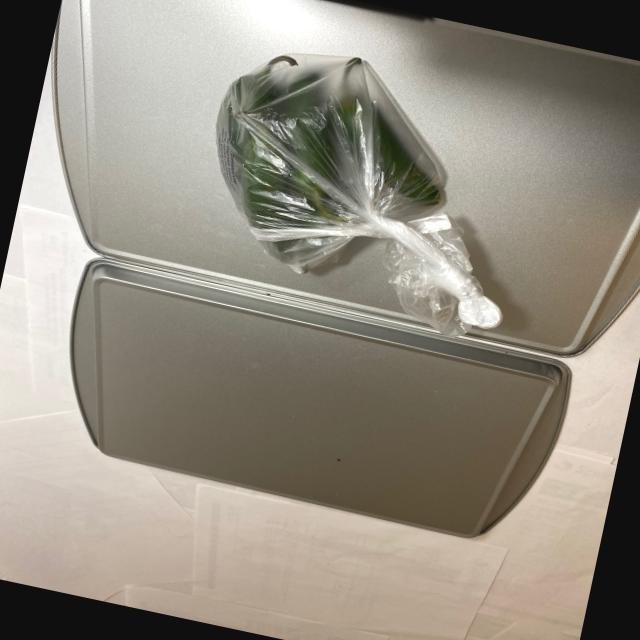chilli: (190, 29, 464, 294)
